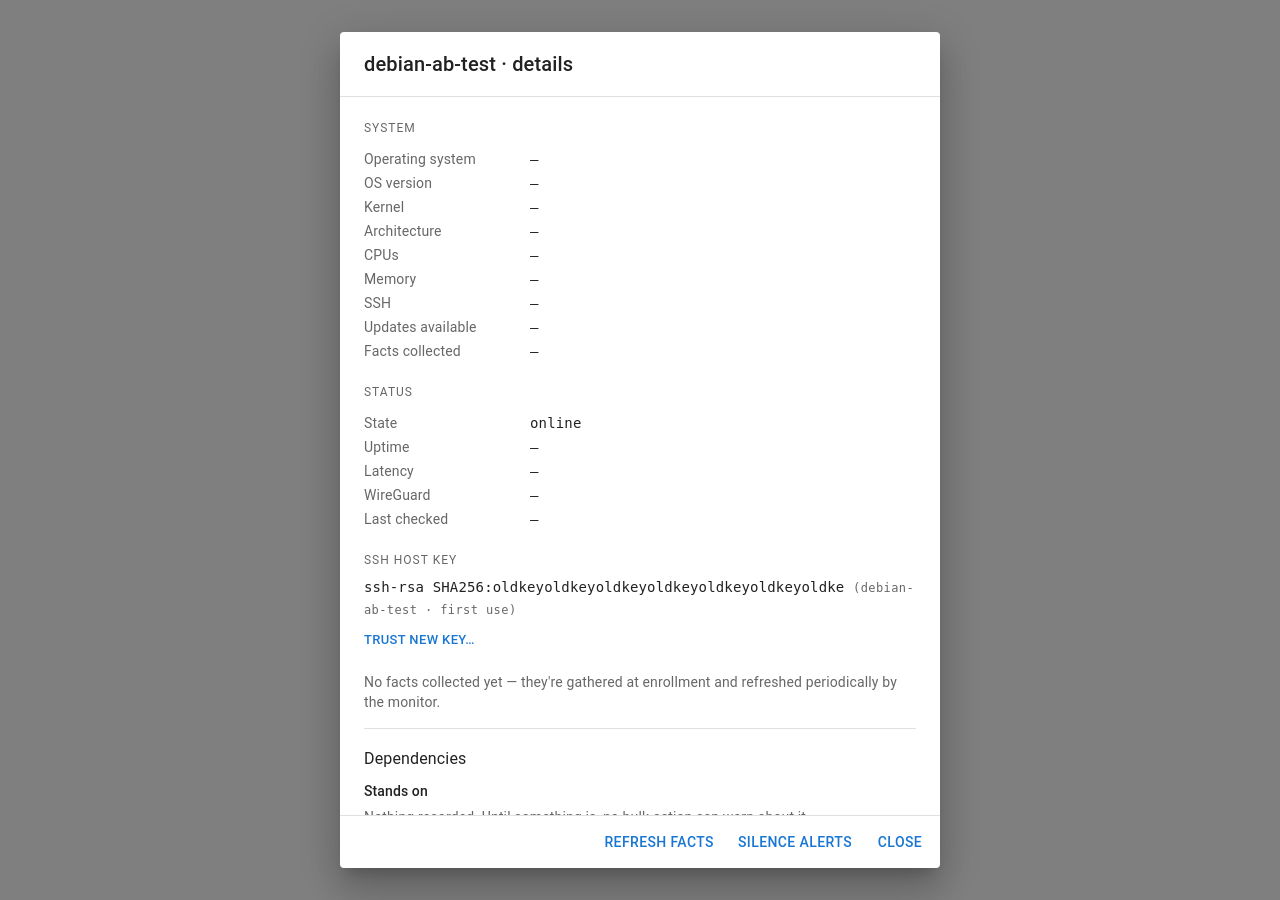
it: HostDetailsDialog SSH host key section › lets an operator re-trust an ONLINE host's key, after confirming
expect the text "SHA256:oldkeyoldkey" is shown: met, box 433,579 -> 844,595
What coordinates should you click on to do the following:
click the button "Trust new key…"
I would click on:
 (419, 640)
Its box is 364,625 -> 475,656.
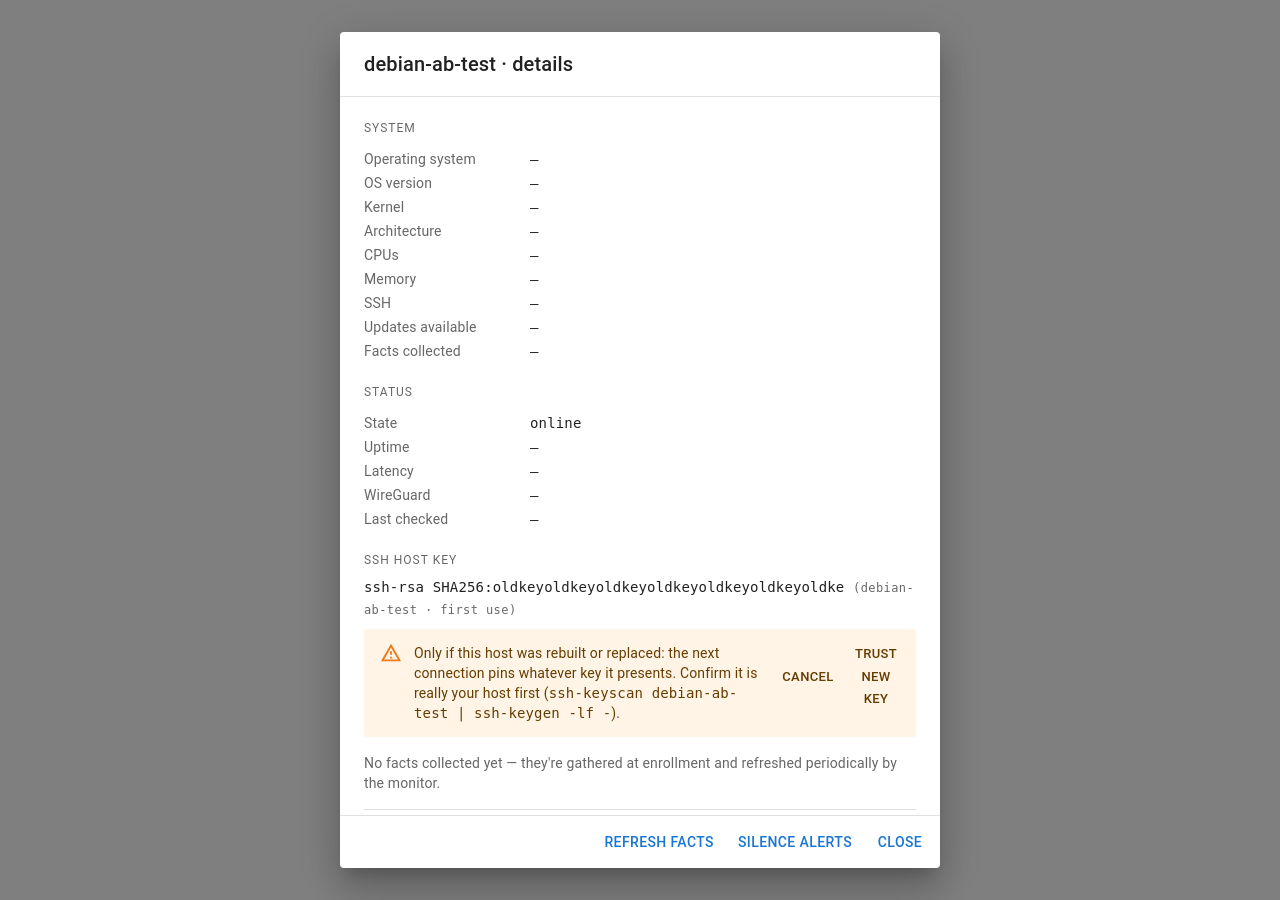
expect the text "Confirm it is really your host first" is shown: met, box 414,645 -> 758,701
What coordinates should you click on to do the following:
click the button "Trust new key"
I would click on:
 (876, 677)
Its box is 844,639 -> 908,715.
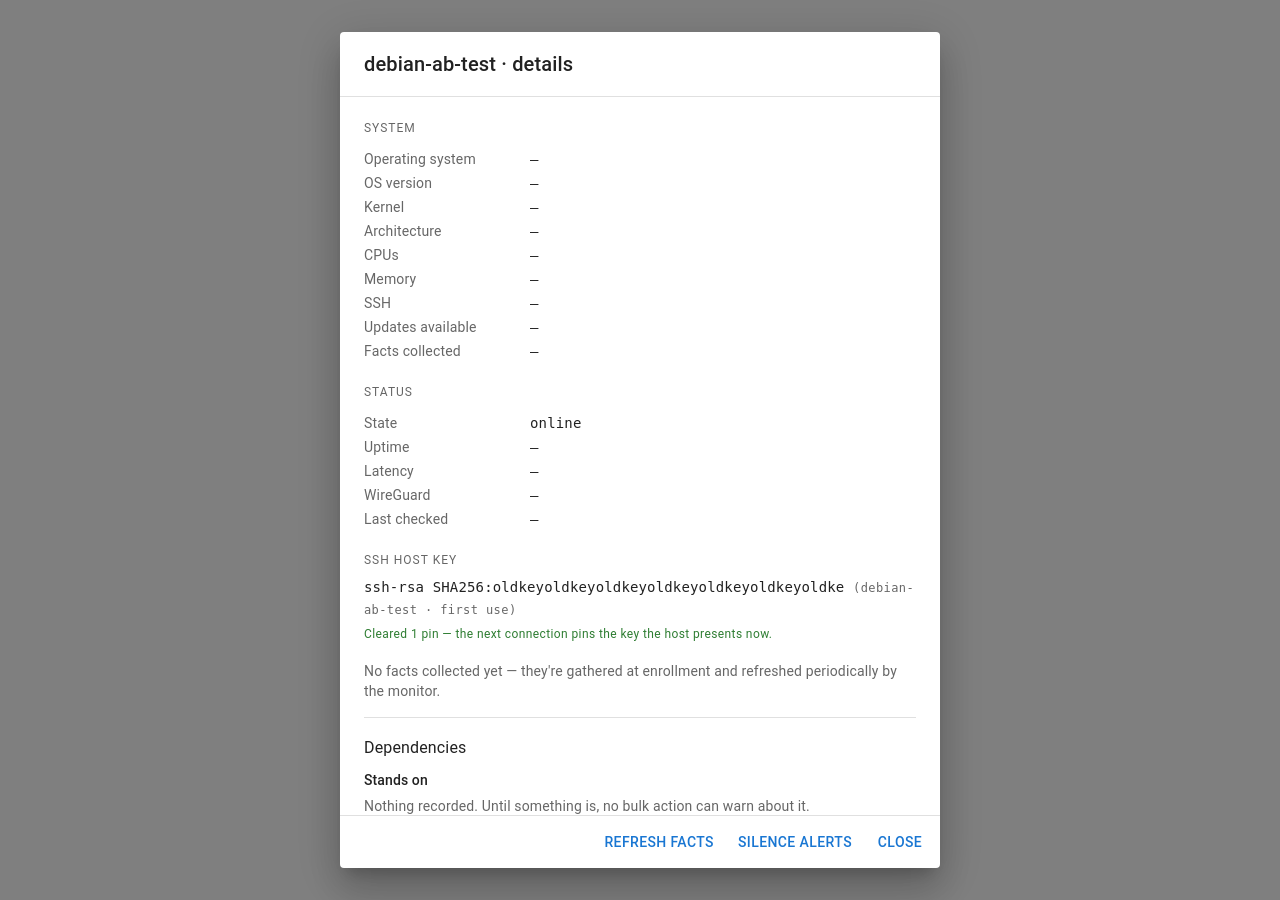
expect the text "Cleared 1 pin —" is shown: met, box 364,627 -> 772,641
